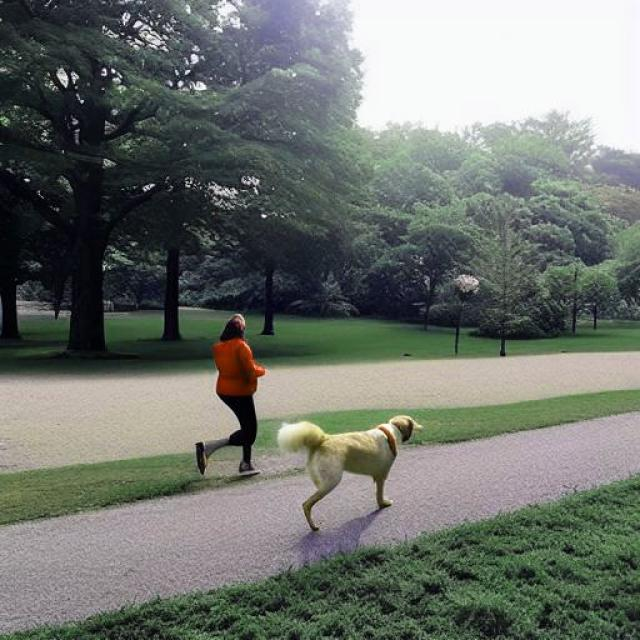Unleashed_Dog: (194, 396, 423, 532)
